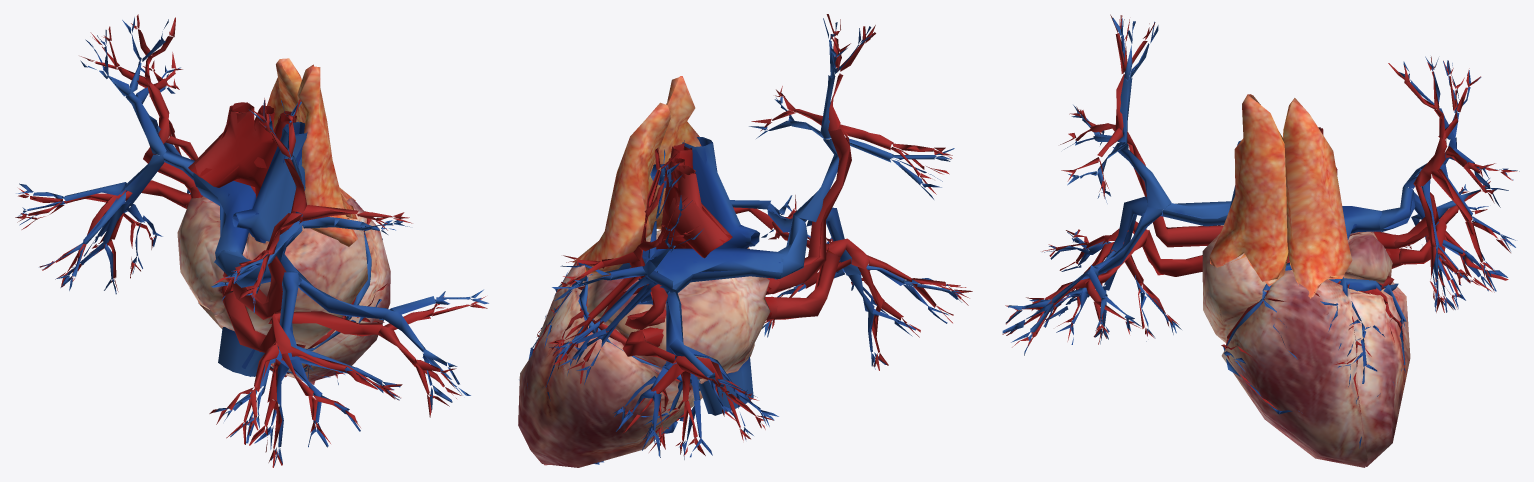
Rendered from asset1.glb.
3 views of the same model, side by side, from view 1: azimuth 30°, elevation 25°; view 2: azimuth 150°, elevation 25°; view 3: azimuth 270°, elevation 25° (orthographic). The views are drawn at different scales.
Parts seen in each view (by area): view 1: Bronchi_Vessels_pivot.006; view 2: Bronchi_Vessels_pivot.006; view 3: Bronchi_Vessels_pivot.006.
Part boxes in pixels (x1,y1,x2,y2): Bronchi_Vessels_pivot.006: (15,14,488,467); Bronchi_Vessels_pivot.006: (518,14,972,467); Bronchi_Vessels_pivot.006: (1002,14,1519,467).
Size of the model in its own units: 0.259 by 0.3312 by 0.4159.
5 materials, 5 textured.
